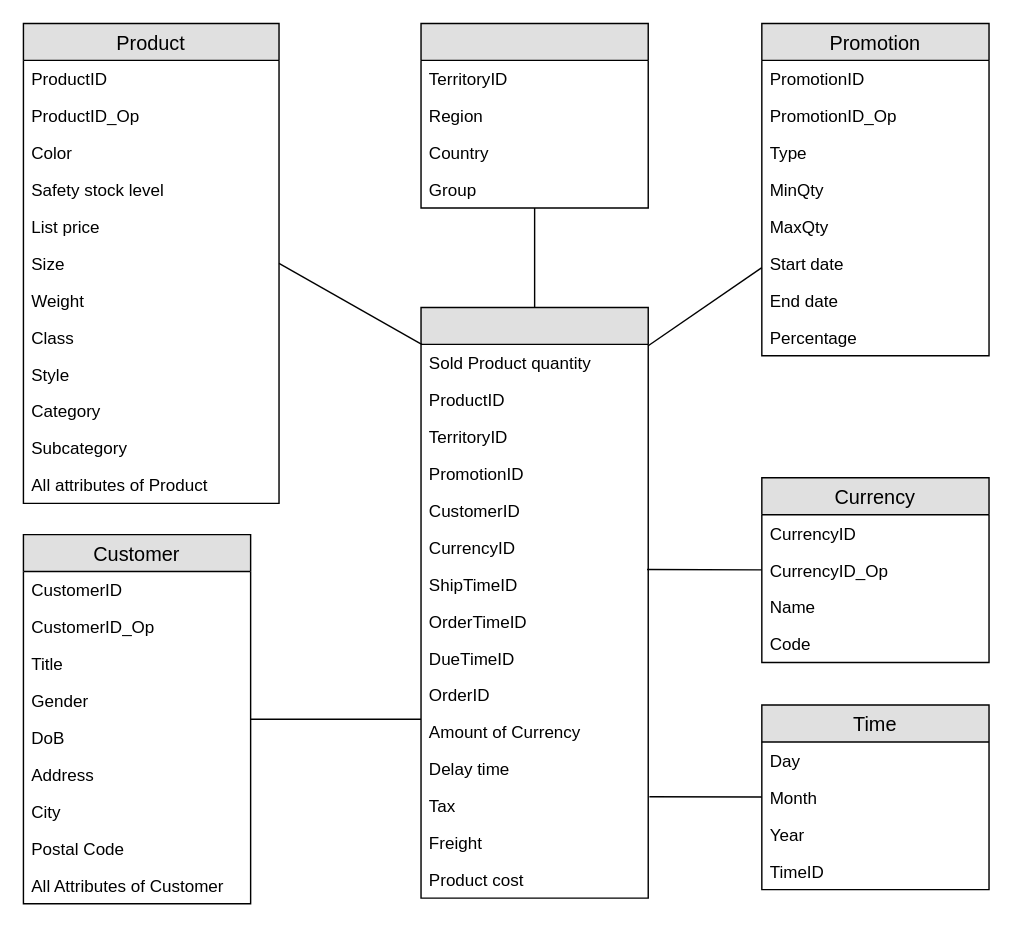
This 1012x927 diagram has some shape labels left out. The box of each missing label's shape, as (x1, y1, x2, y2) in pixels:
Fact: (420, 306, 648, 898)
Sales Territory: (420, 22, 648, 208)
